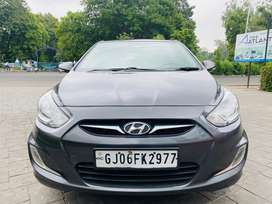GJ06FK2977: (95, 150, 177, 168)
